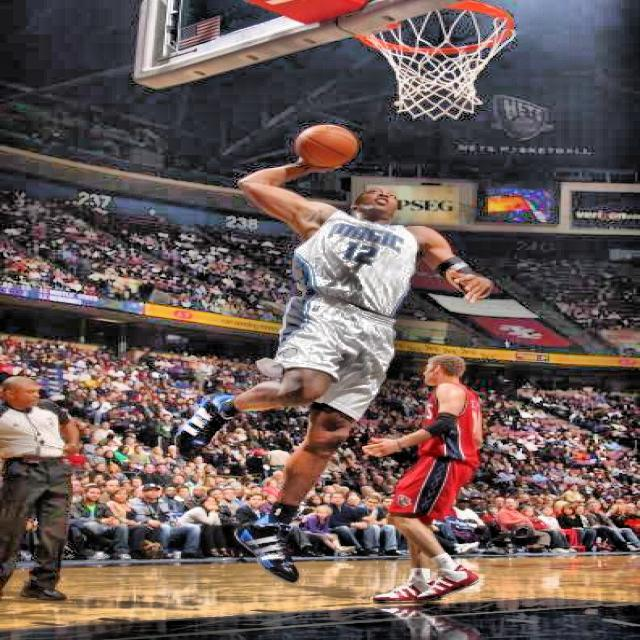board: (294, 124, 359, 168)
rim: (359, 0, 511, 117)
